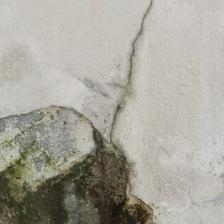Crack: (0, 94, 117, 216), (43, 24, 114, 135)
